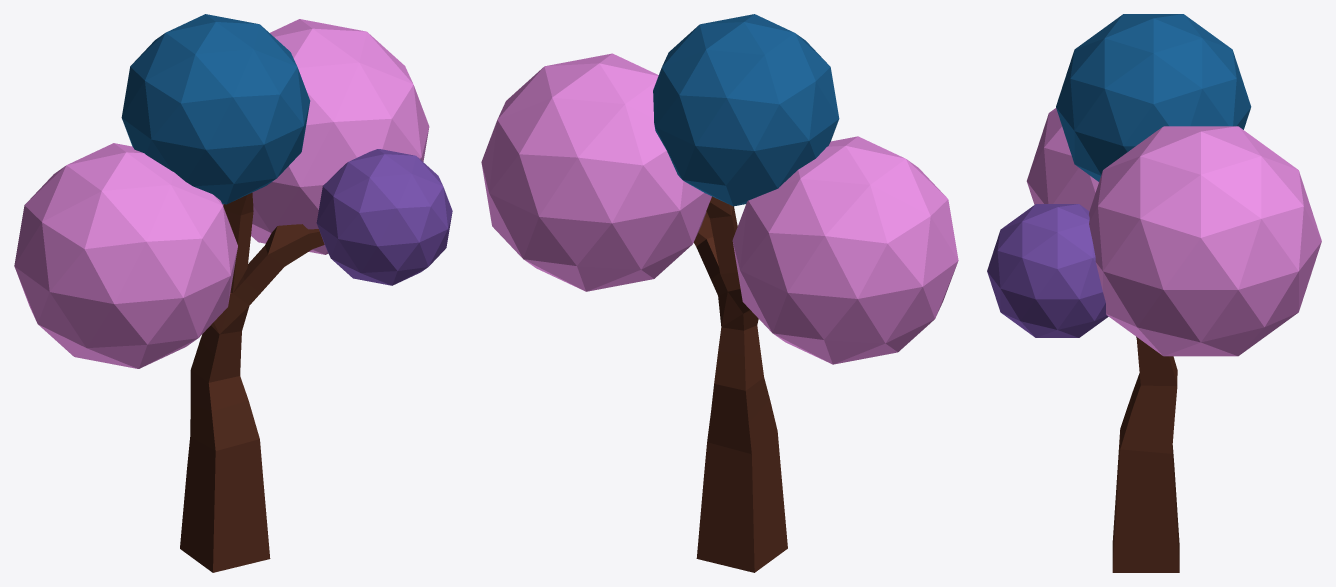
The model's file is tree03.fbx.
The picture shows the model from 3 angles, left to right: view 1: azimuth 30°, elevation 25°; view 2: azimuth 150°, elevation 25°; view 3: azimuth 270°, elevation 25°; orthographic projection.
Visible parts, largest first — view 1: Icosphere.008, Icosphere.009, Cube.003, Icosphere.012, Icosphere.010; view 2: Icosphere.012, Icosphere.008, Icosphere.009, Cube.003; view 3: Icosphere.012, Icosphere.009, Icosphere.010, Cube.003, Icosphere.008.
Boxes of the visible parts, x1,y1,x2,y2 form: Icosphere.008: (14, 143, 237, 368); Icosphere.009: (121, 14, 310, 204); Cube.003: (180, 193, 324, 572); Icosphere.012: (222, 19, 429, 254); Icosphere.010: (316, 149, 452, 285); Icosphere.012: (481, 53, 711, 291); Icosphere.008: (732, 136, 958, 364); Icosphere.009: (653, 14, 839, 206); Cube.003: (694, 196, 787, 572); Icosphere.012: (1089, 126, 1321, 356); Icosphere.009: (1056, 14, 1251, 181); Icosphere.010: (987, 204, 1108, 337); Cube.003: (1112, 336, 1179, 572); Icosphere.008: (1026, 108, 1098, 211).
Bounding box in the file's own units: 1063 × 1322 × 746.
